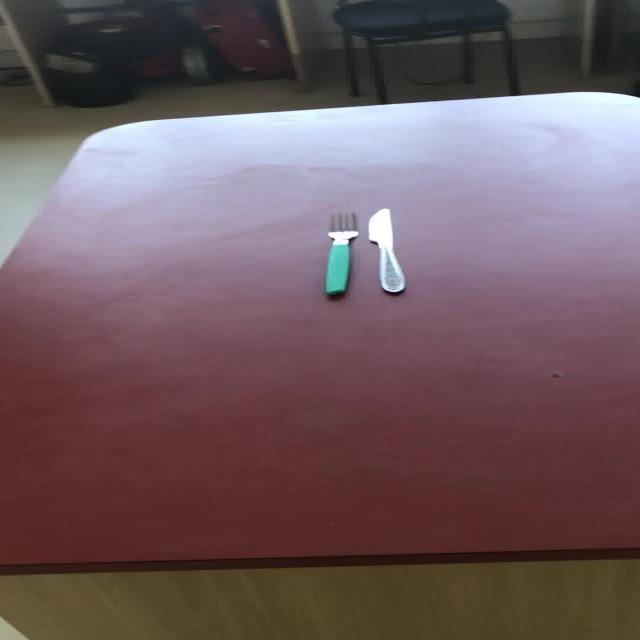fork: (323, 212, 358, 296)
knife fork: (365, 207, 405, 292)
